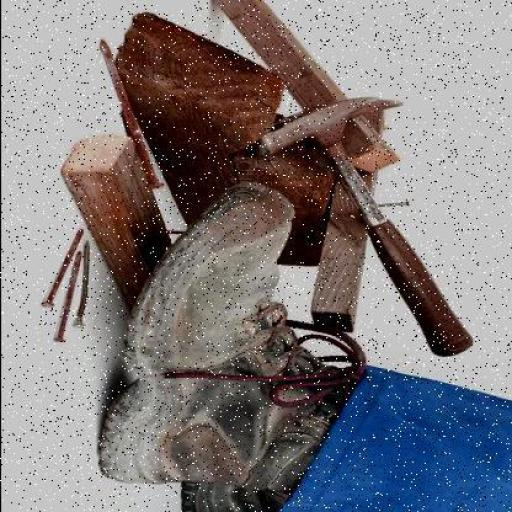safety_shoe: (81, 200, 351, 494)
